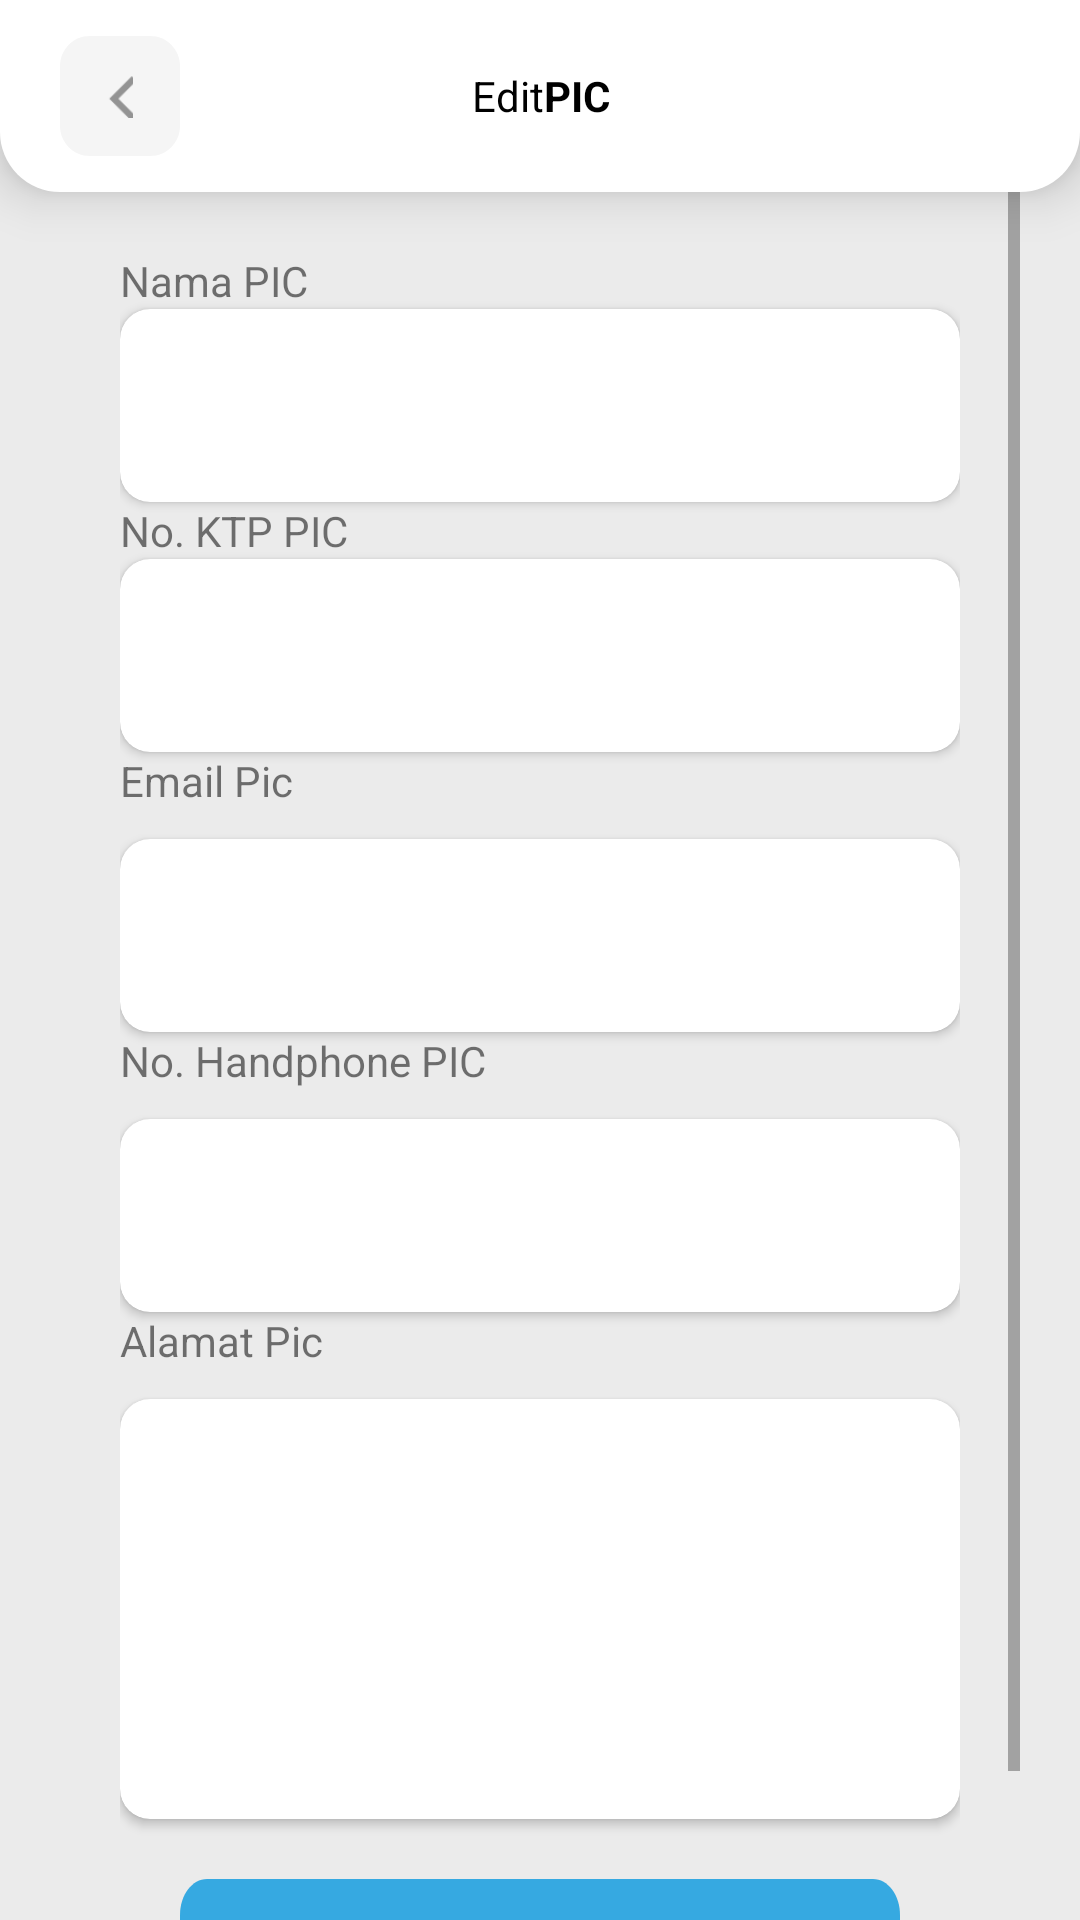

Point at icon controls on the screen. Image size 1080×1920, points as (x,y).
back: (121,97)
